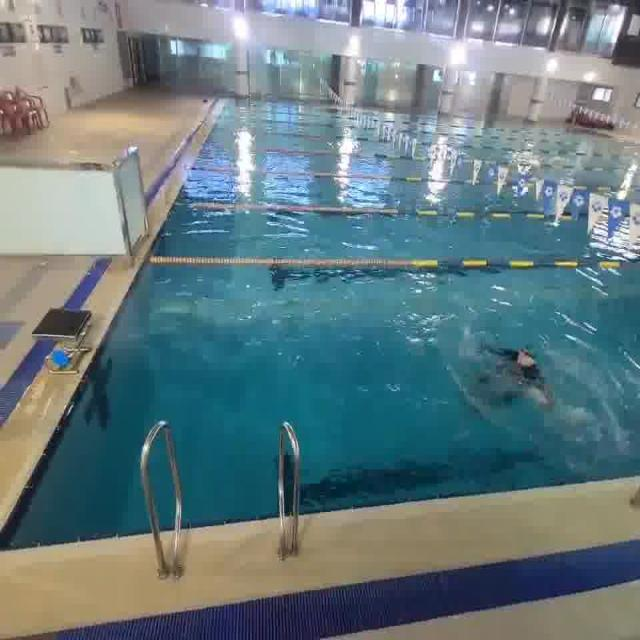Drowning: (462, 316, 571, 435)
